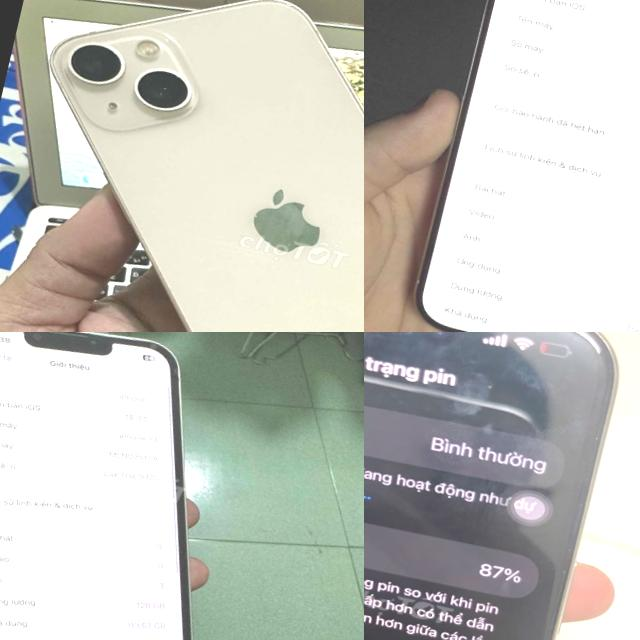gen_12_13: (0, 0, 364, 332), (0, 332, 268, 640)
gen_15: (364, 332, 640, 640), (399, 0, 640, 332)
